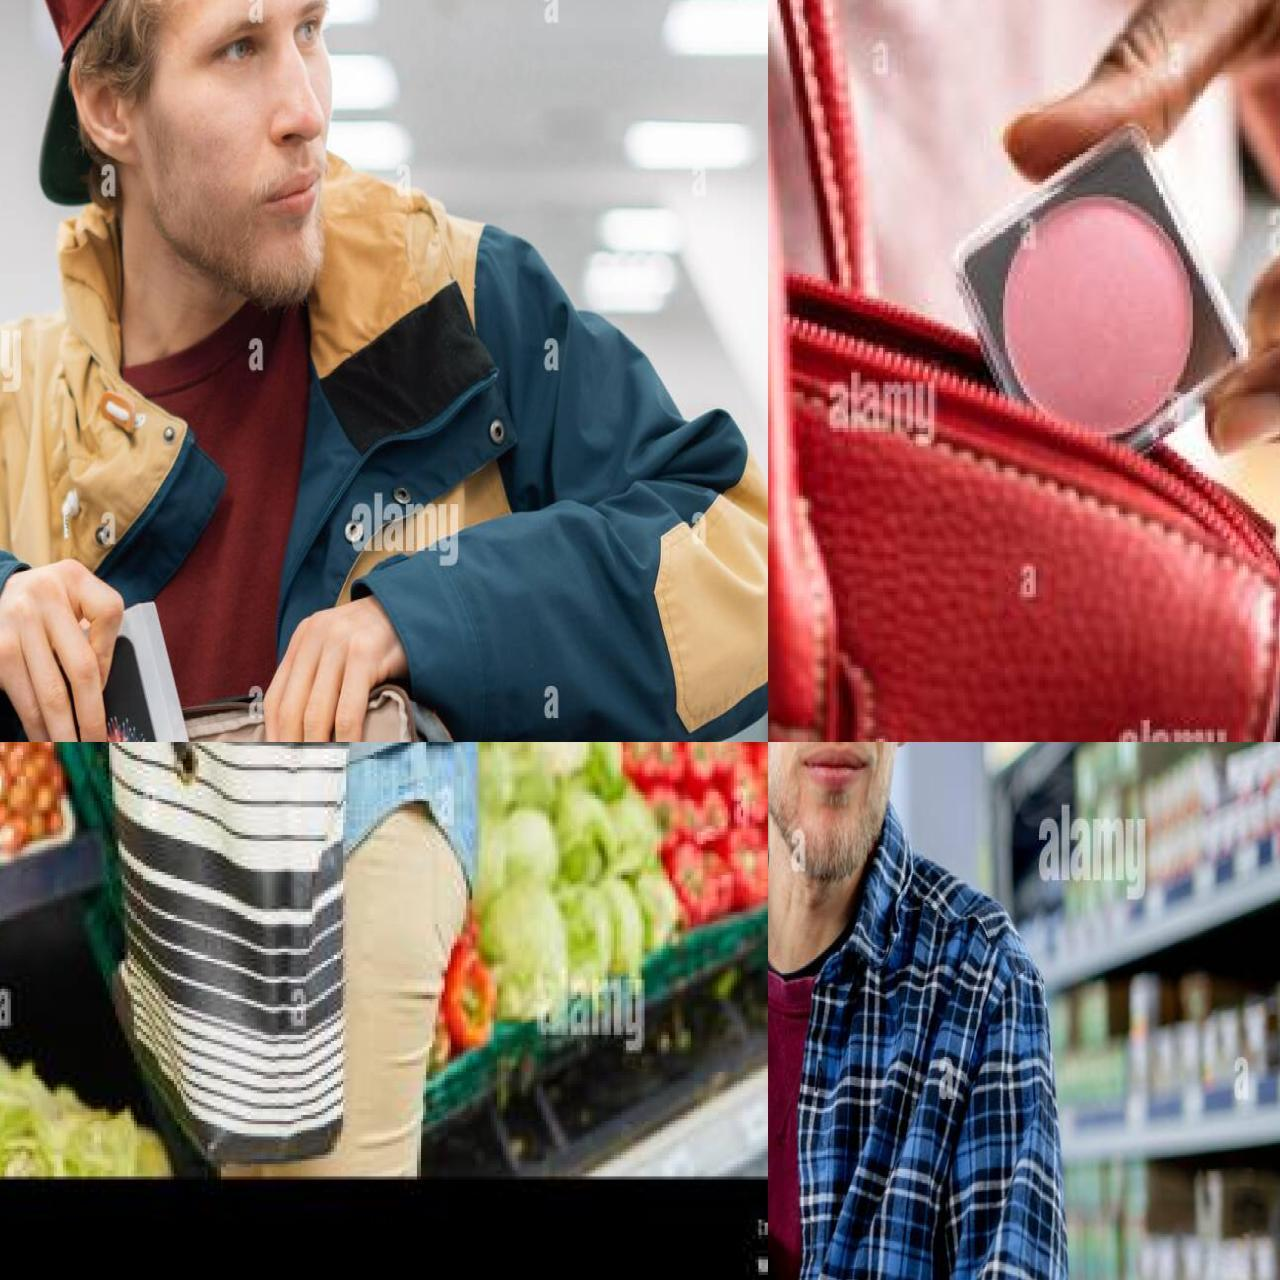Shoplifting: (0, 0, 768, 742), (768, 0, 1280, 742), (0, 742, 464, 1167), (768, 742, 1058, 1280), (103, 1248, 105, 1254)
